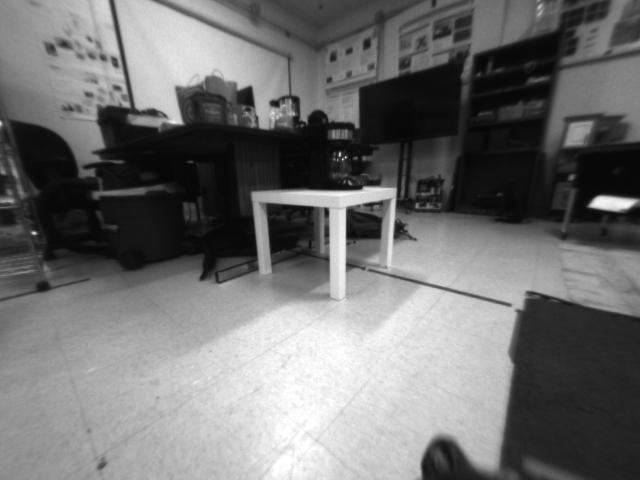coffee_pot: (305, 122, 365, 190)
